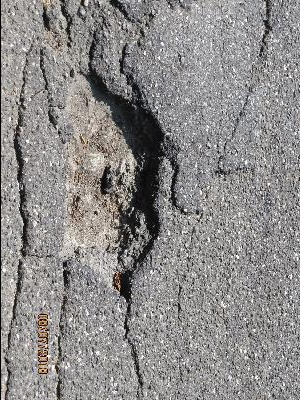pothole: (59, 65, 171, 303)
